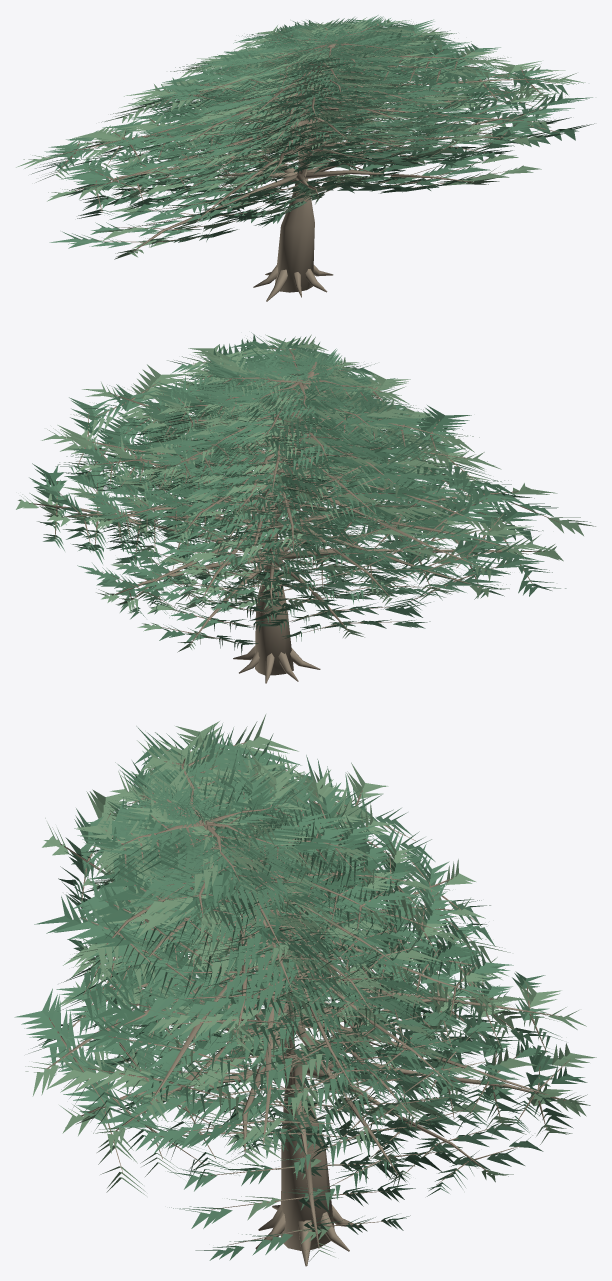
Rendered from cedar_0.glb.
The picture shows the model from 3 angles, top to bottom: view 1: azimuth 30°, elevation 25°; view 2: azimuth 150°, elevation 25°; view 3: azimuth 270°, elevation 25°; orthographic projection. The views are drawn at different scales.
Visible parts, largest first — view 1: tree_conifer_ConiferLeaf, tree_conifer_ConiferLeafLight, tree_conifer_ConiferBark, tree_conifer_ConiferLeafDark; view 2: tree_conifer_ConiferLeaf, tree_conifer_ConiferLeafLight, tree_conifer_ConiferLeafDark, tree_conifer_ConiferBark; view 3: tree_conifer_ConiferLeaf, tree_conifer_ConiferLeafLight, tree_conifer_ConiferLeafDark, tree_conifer_ConiferBark.
Boxes of the visible parts, box(x1,y1,x2,y2) form: tree_conifer_ConiferLeaf: box(40, 15, 583, 248); tree_conifer_ConiferLeafLight: box(16, 17, 585, 259); tree_conifer_ConiferBark: box(45, 21, 559, 301); tree_conifer_ConiferLeafDark: box(31, 16, 594, 227); tree_conifer_ConiferLeaf: box(29, 338, 566, 643); tree_conifer_ConiferLeafLight: box(16, 334, 595, 652); tree_conifer_ConiferLeafDark: box(32, 332, 545, 654); tree_conifer_ConiferBark: box(29, 346, 559, 683); tree_conifer_ConiferLeaf: box(14, 723, 566, 1255); tree_conifer_ConiferLeafLight: box(25, 714, 596, 1263); tree_conifer_ConiferLeafDark: box(34, 726, 587, 1260); tree_conifer_ConiferBark: box(46, 740, 570, 1266).
Size of the model in its own units: 16.01 by 7.8 by 9.36.
